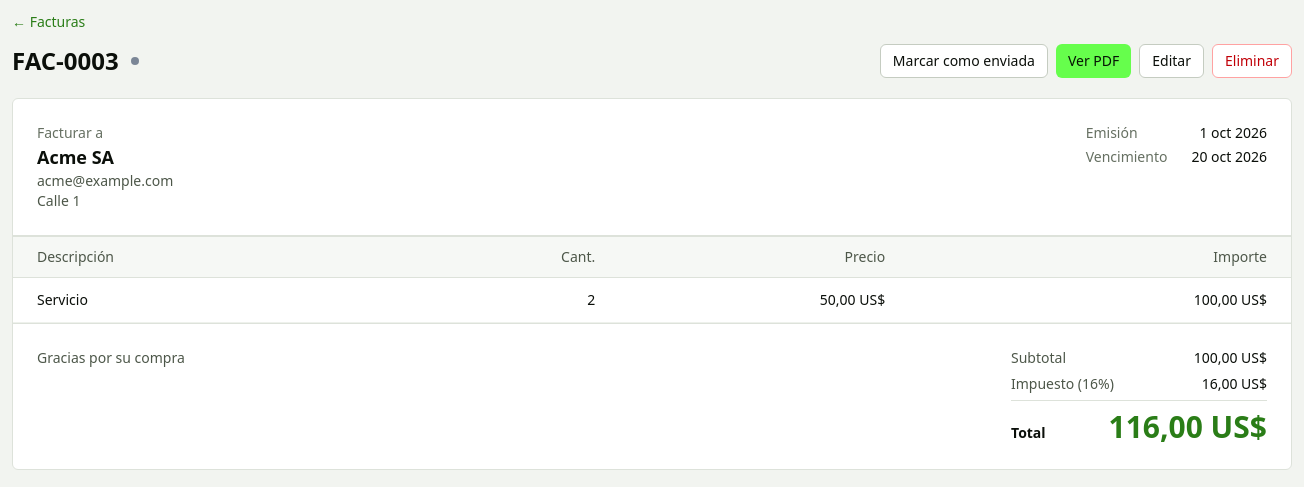
Scenario: InvoiceDetailPage › deshabilita el botón de estado mientras la mutación está en curso
The width and height of the screenshot is (1304, 487).
Click the button "Marcar como enviada": click(964, 61) [880,44,1048,78]
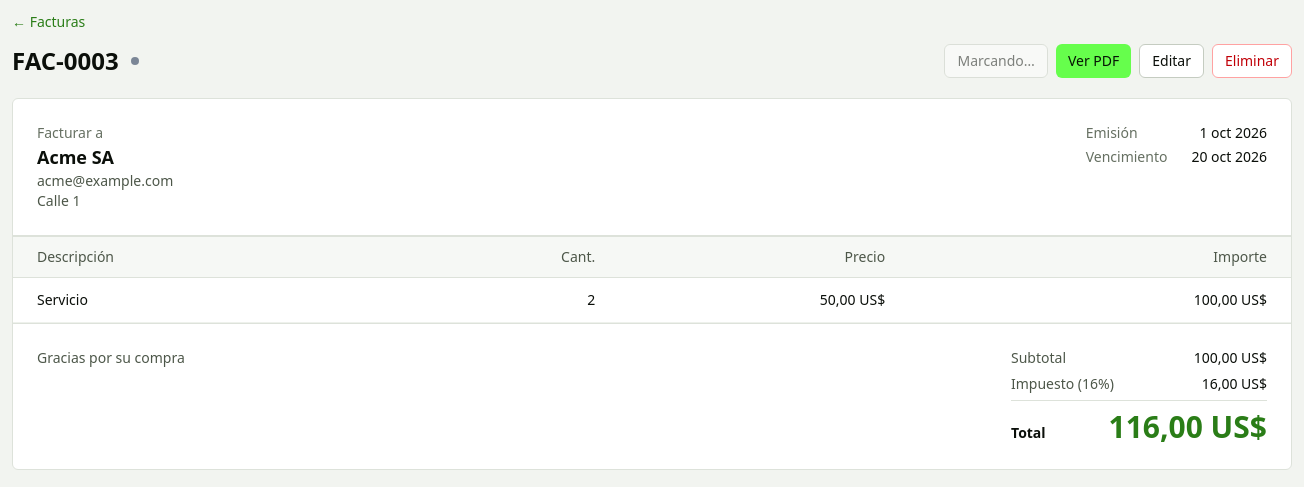
Expected: the button "Marcando…" is disabled, [944,44,1048,78]
